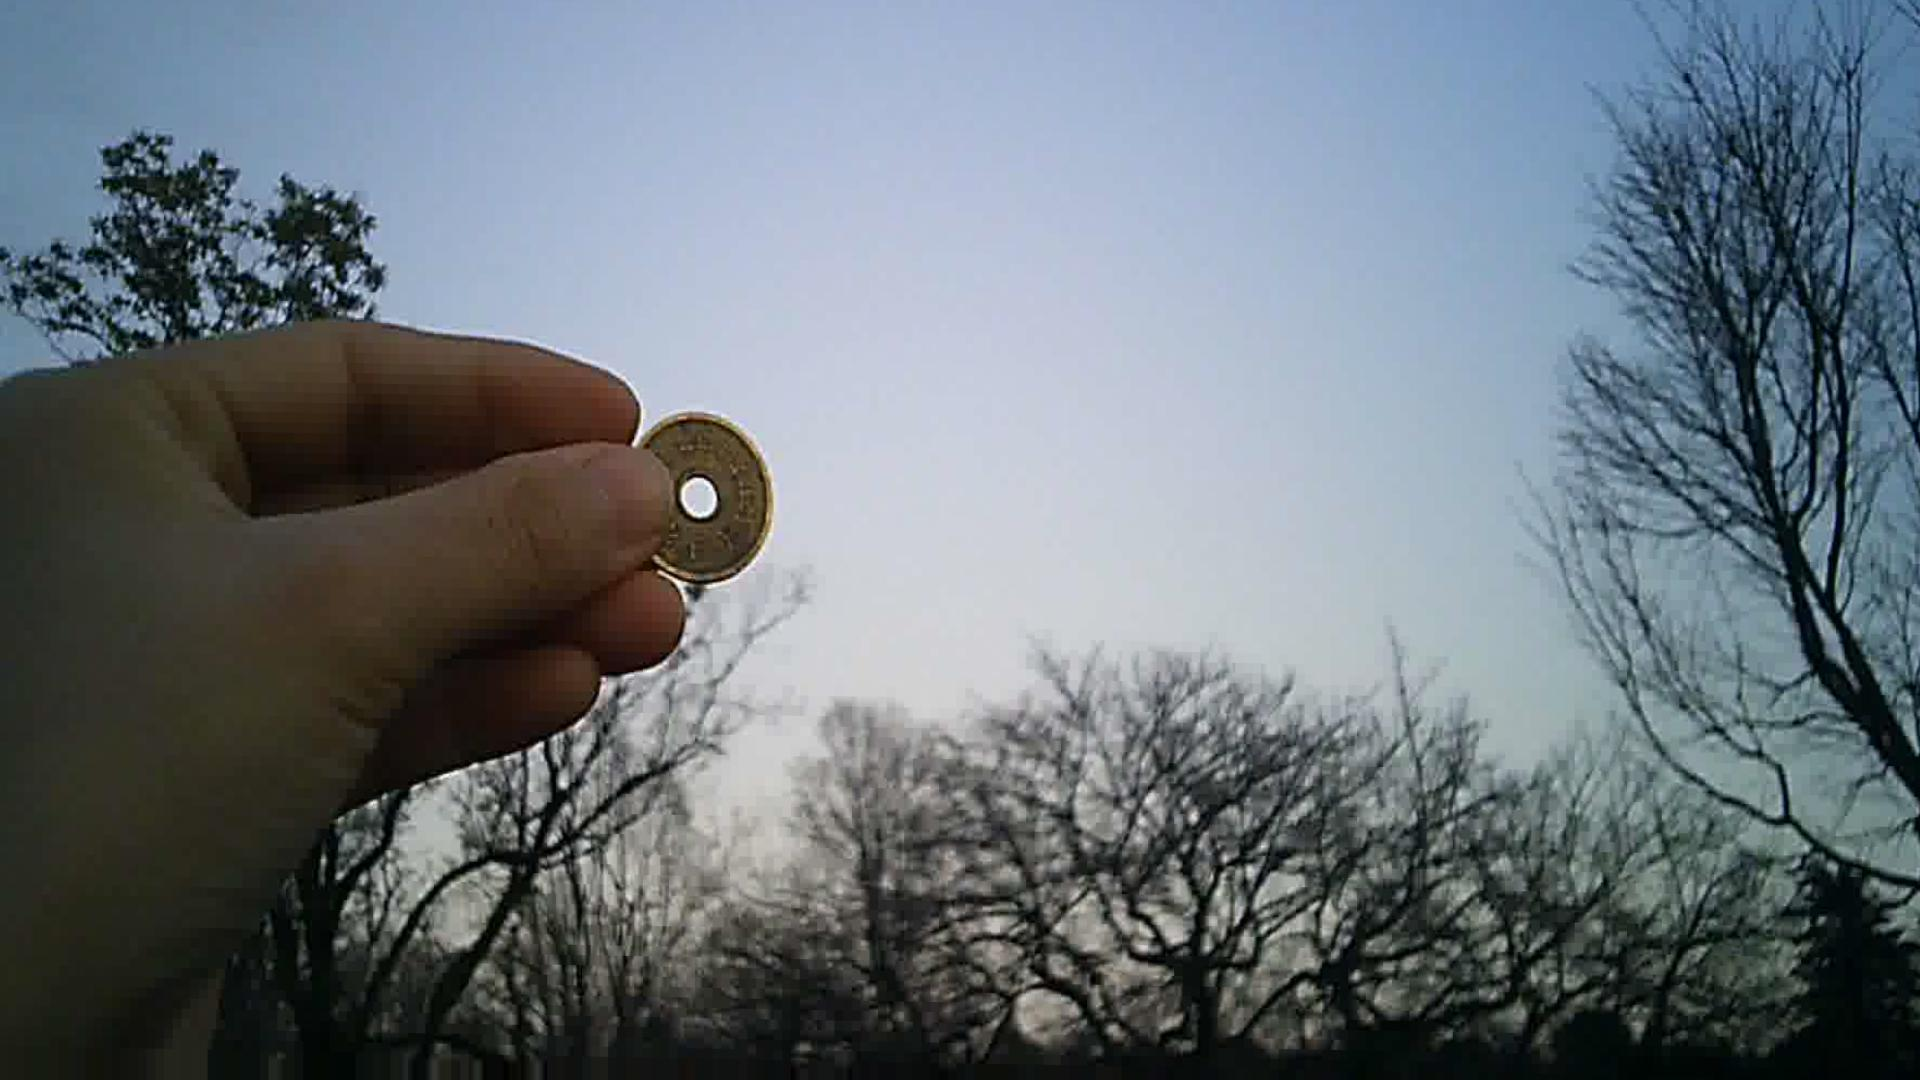5 Yen: (626, 411, 771, 596)
